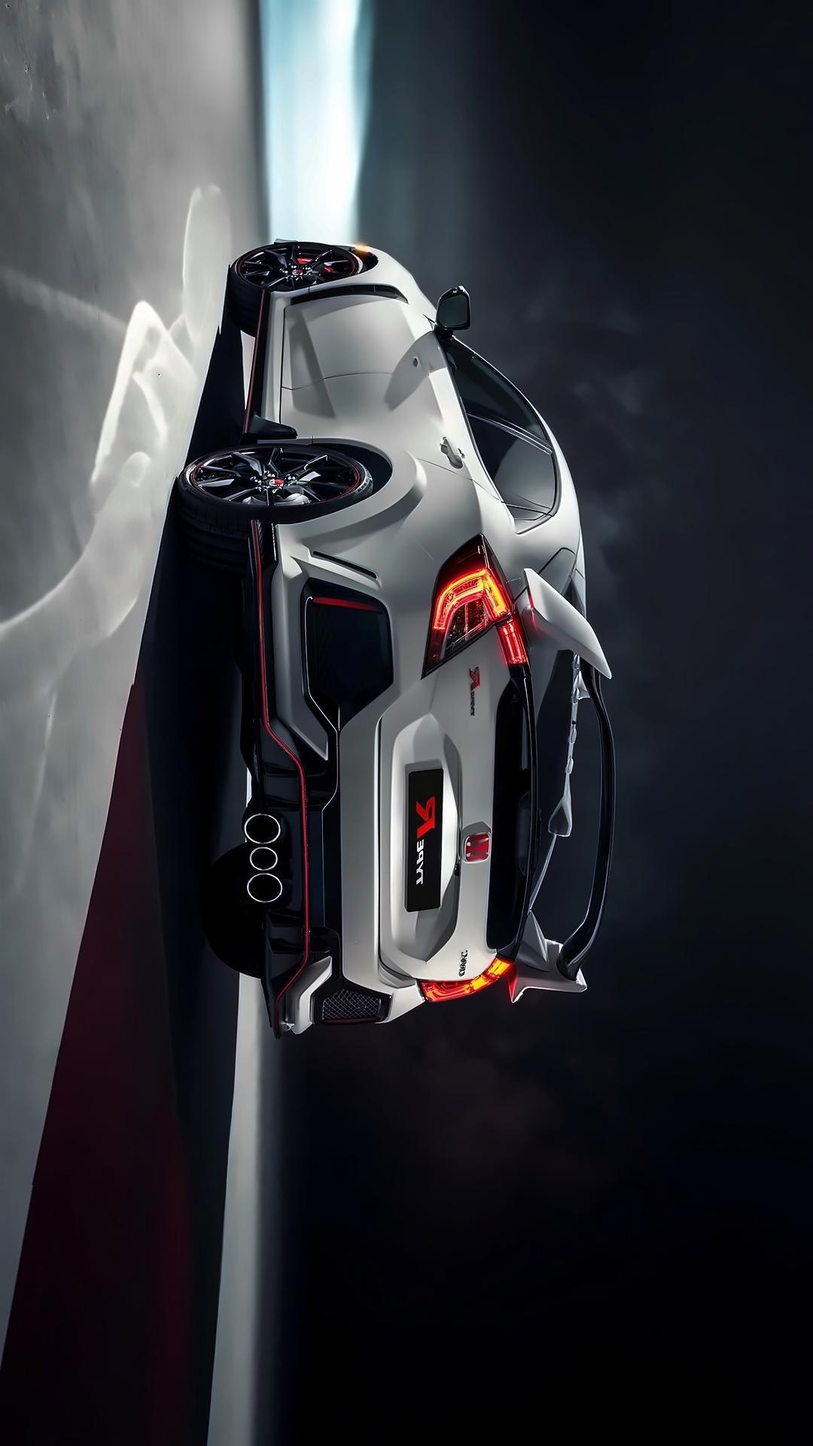Car boot: (367, 594, 560, 992)
Fender - -F-L-: (293, 229, 444, 322)
Fender - -R-L-: (283, 423, 554, 593)
Passenger-s door - -F-L-: (230, 273, 576, 459)
Passenger-s door - -R-L-: (225, 358, 578, 509)
Rear bumper: (245, 496, 438, 1037)
Rear light - -L-: (419, 530, 531, 678)
Rear light - -R-: (417, 955, 521, 1000)
Side bumper - -L-: (231, 283, 338, 443)
Side mirror - -L-: (424, 278, 472, 350)
